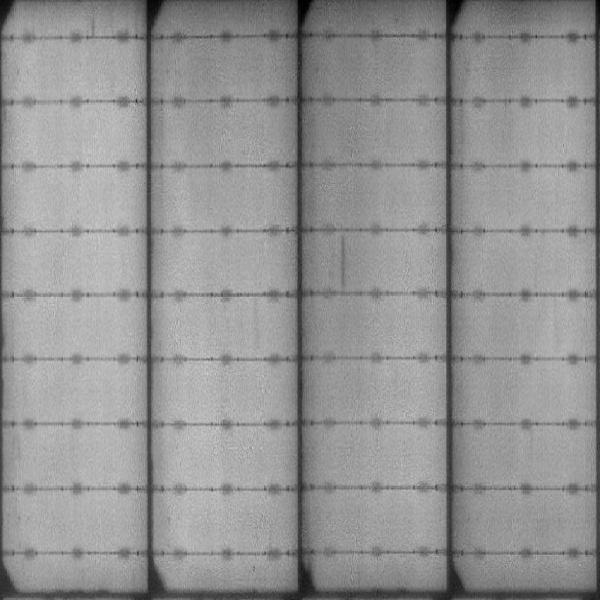scratch: (338, 237, 353, 293)
